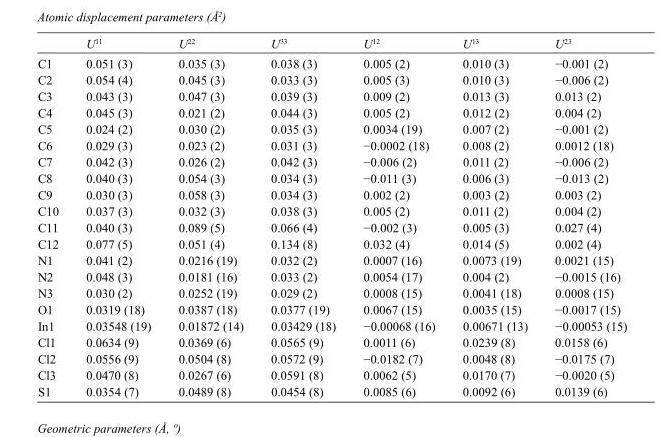table: (36, 36, 626, 398)
table column: (348, 36, 448, 398), (71, 36, 164, 398), (164, 36, 256, 398), (256, 36, 348, 398), (448, 36, 540, 398), (540, 36, 626, 398), (36, 36, 71, 398)
table column header: (36, 36, 626, 53)
table row: (36, 53, 626, 71), (36, 36, 626, 53), (36, 87, 626, 104), (36, 120, 626, 137), (36, 169, 626, 186), (36, 202, 626, 219), (36, 251, 626, 268), (36, 284, 626, 301), (36, 333, 626, 350), (36, 366, 626, 383), (36, 71, 626, 87), (36, 104, 626, 120), (36, 137, 626, 153), (36, 153, 626, 169), (36, 186, 626, 202), (36, 219, 626, 235), (36, 235, 626, 251), (36, 268, 626, 284), (36, 301, 626, 317), (36, 317, 626, 333), (36, 350, 626, 366), (36, 383, 626, 398)
